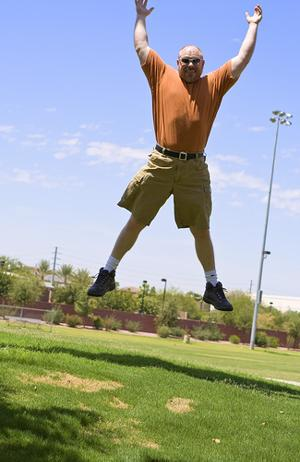person: (90, 3, 262, 314)
